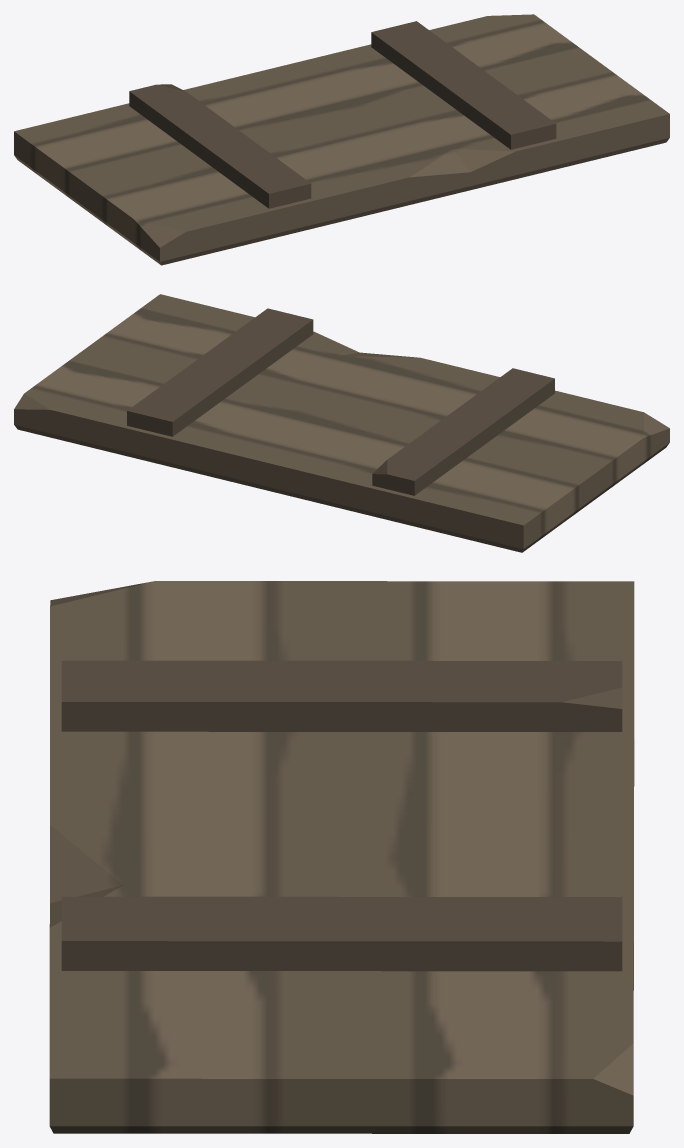
Rendered from SM_Prop_Crate_Wood_Lid_03.glb.
3 renders of one model, top to bottom at view 1: azimuth 30°, elevation 25°; view 2: azimuth 150°, elevation 25°; view 3: azimuth 270°, elevation 25°, orthographic. The views are drawn at different scales.
Visible parts, largest first — view 1: SM_Prop_Crate_Wood_Lid_03; view 2: SM_Prop_Crate_Wood_Lid_03; view 3: SM_Prop_Crate_Wood_Lid_03.
Part boxes in pixels (left/top/right/bottom): SM_Prop_Crate_Wood_Lid_03: left=14, top=14, right=669, bottom=265; SM_Prop_Crate_Wood_Lid_03: left=14, top=294, right=669, bottom=552; SM_Prop_Crate_Wood_Lid_03: left=49, top=581, right=634, bottom=1133.
Size of the model in its own units: 1.46 by 0.1194 by 0.7248.
Materials: 1 (1 with a texture image).
